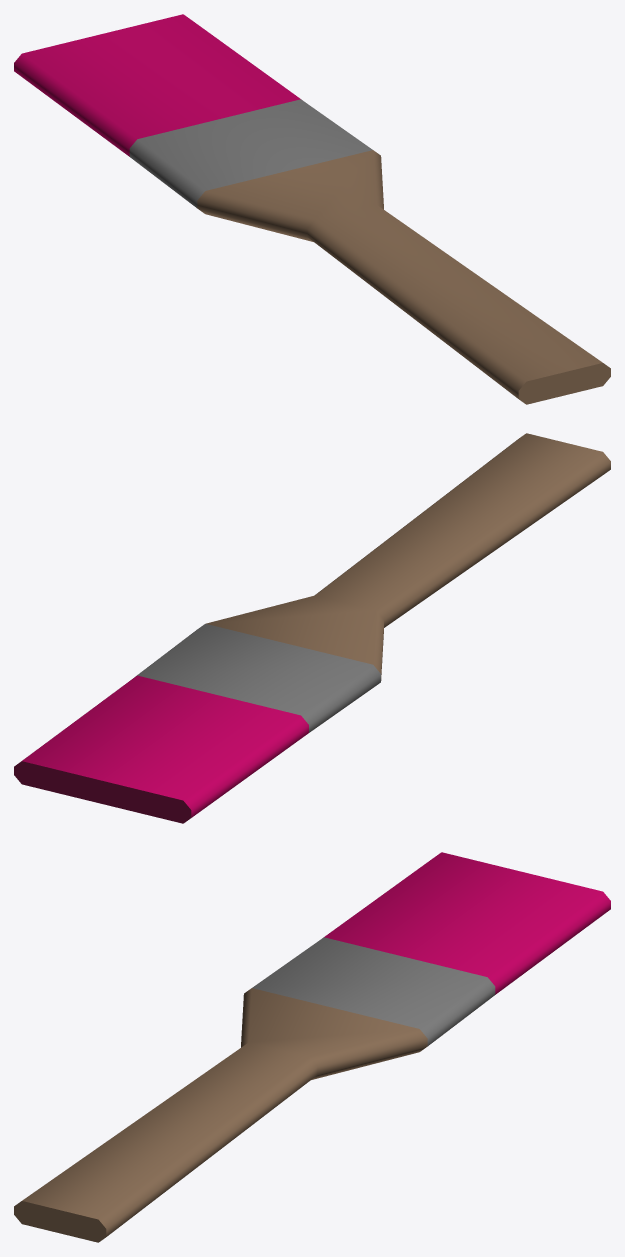
Rendered from PaintBrush.fbx.
3 views of the same model, one above another, from view 1: azimuth 30°, elevation 25°; view 2: azimuth 150°, elevation 25°; view 3: azimuth 330°, elevation 25° (orthographic).
Visible parts, largest first — view 1: PaintBrush; view 2: PaintBrush; view 3: PaintBrush.
Part boxes in pixels (box(x1,y1,x2,y2)): PaintBrush: box(14, 14, 610, 404); PaintBrush: box(14, 433, 610, 823); PaintBrush: box(14, 852, 610, 1242).
Size of the model in its own units: 0.1588 by 0.0192 by 0.6924.
